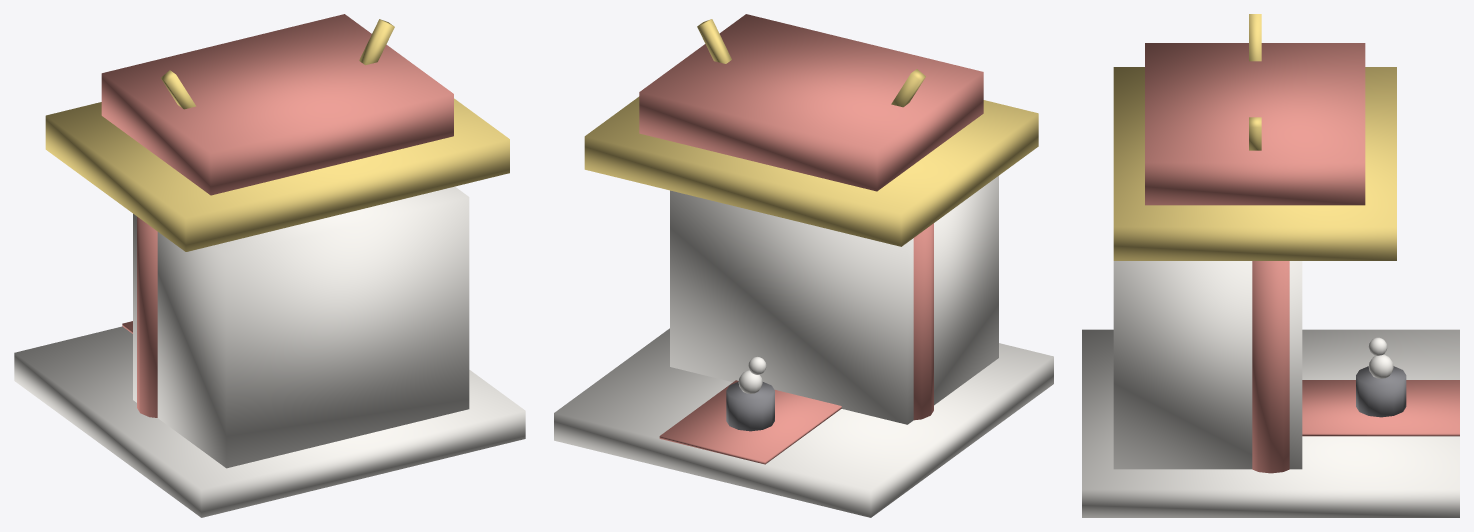
The model's file is wat_arun_lv2.glb.
The picture shows the model from 3 angles, left to right: view 1: azimuth 30°, elevation 25°; view 2: azimuth 150°, elevation 25°; view 3: azimuth 270°, elevation 25°; orthographic projection. The views are drawn at different scales.
Parts seen in each view (by area): view 1: back_wall, roof_l2, shrine_deck, roof_l1, pil_l, chofah_r, chofah_l; view 2: back_wall, roof_l2, shrine_deck, roof_l1, red_carpet, pil_l, burner, chofah_r, chofah_l; view 3: roof_l2, shrine_deck, back_wall, roof_l1, pil_r, red_carpet, burner, chofah_l, smoke1, chofah_r.
Part boxes in pixels (<box>): back_wall: <box>133,186,469,468</box>; roof_l2: <box>101,14,453,195</box>; shrine_deck: <box>14,326,525,517</box>; roof_l1: <box>45,98,509,251</box>; pil_l: <box>137,216,157,417</box>; chofah_r: <box>359,19,394,65</box>; chofah_l: <box>161,70,196,109</box>; back_wall: <box>670,176,998,424</box>; roof_l2: <box>639,14,983,191</box>; shrine_deck: <box>554,328,1053,517</box>; roof_l1: <box>584,96,1038,246</box>; red_carpet: <box>659,380,841,464</box>; pil_l: <box>913,223,933,420</box>; burner: <box>726,381,774,431</box>; chofah_r: <box>697,19,731,63</box>; chofah_l: <box>891,69,925,107</box>; roof_l2: <box>1145,43,1365,205</box>; shrine_deck: <box>1082,329,1459,517</box>; back_wall: <box>1113,261,1302,469</box>; roof_l1: <box>1113,67,1396,260</box>; pil_r: <box>1252,261,1289,473</box>; red_carpet: <box>1302,380,1459,436</box>; burner: <box>1356,366,1406,417</box>; chofah_l: <box>1249,14,1261,61</box>; smoke1: <box>1368,354,1393,378</box>; chofah_r: <box>1249,117,1261,150</box>.
Size of the model in its own units: 1.2 by 1.31 by 1.2.
